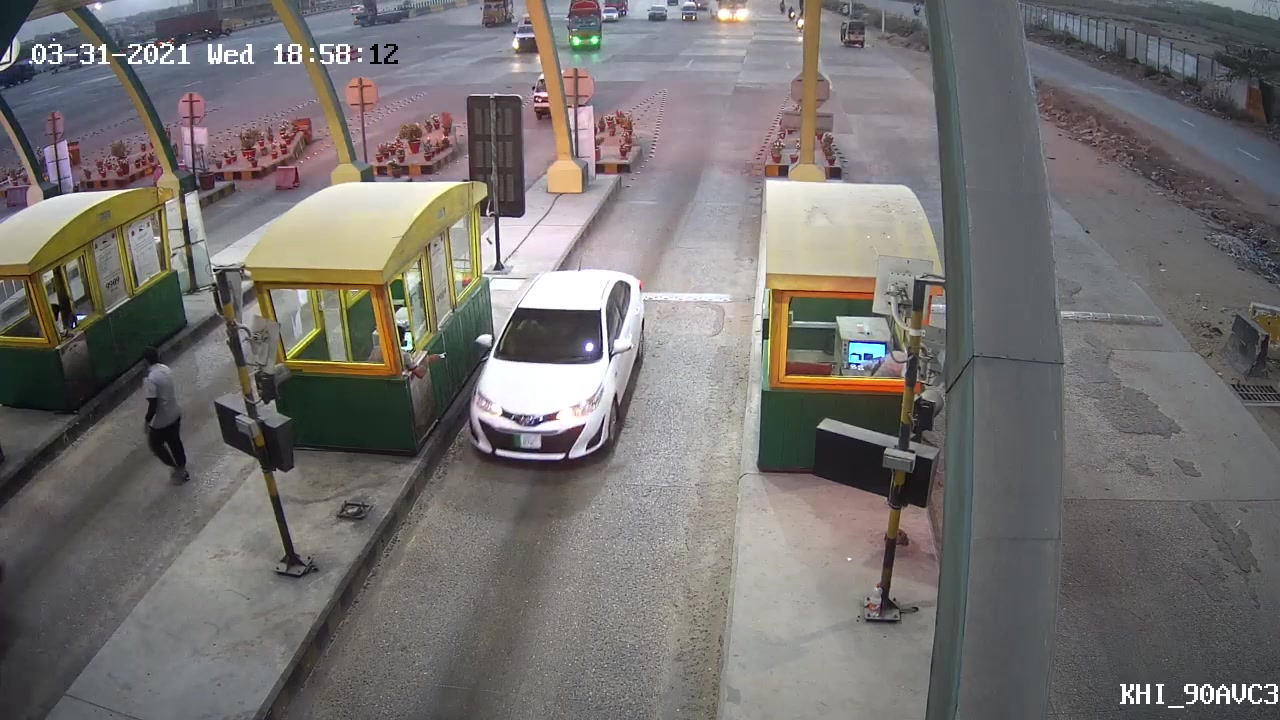F1: (461, 267, 650, 469)
